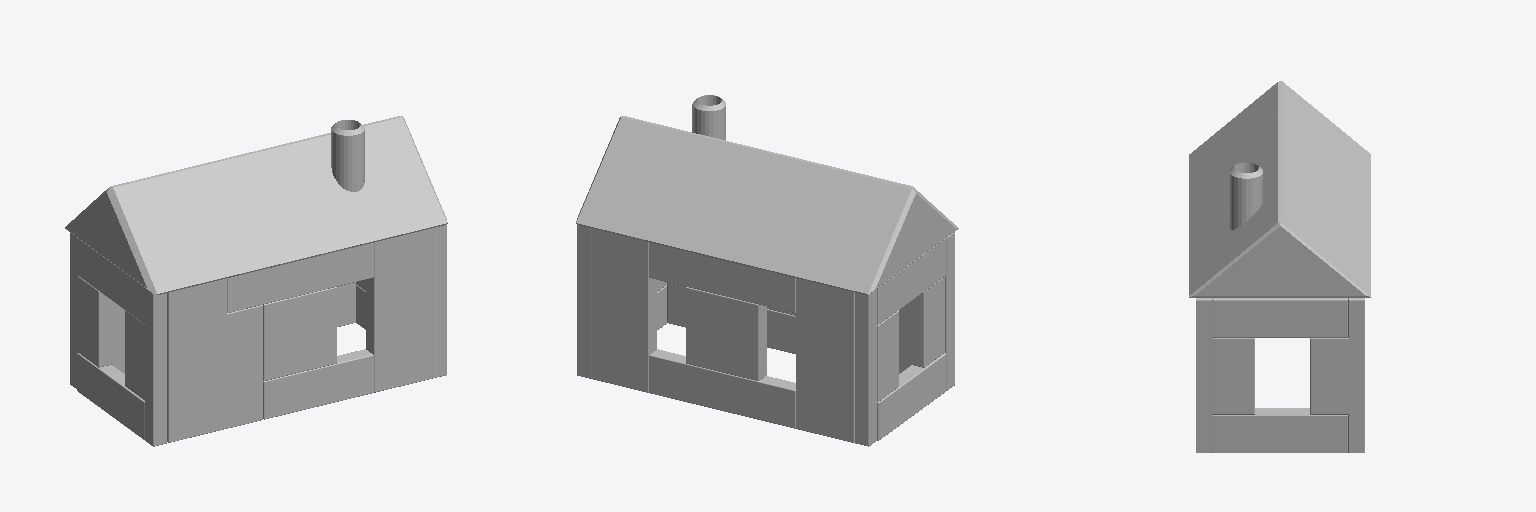
The model's file is house.obj.
The picture shows the model from 3 angles: view 1: azimuth 30°, elevation 25°; view 2: azimuth 150°, elevation 25°; view 3: azimuth 270°, elevation 25°; orthographic projection.
Parts seen in each view (by area): view 1: obj_0; view 2: obj_0; view 3: obj_0.
Part boxes in pixels (x1,y1,x2,y2): obj_0: (65,116,447,446); obj_0: (576,95,958,446); obj_0: (1189,81,1370,452).
Bounding box in the file's own units: 40.5 × 32.5 × 21.5.